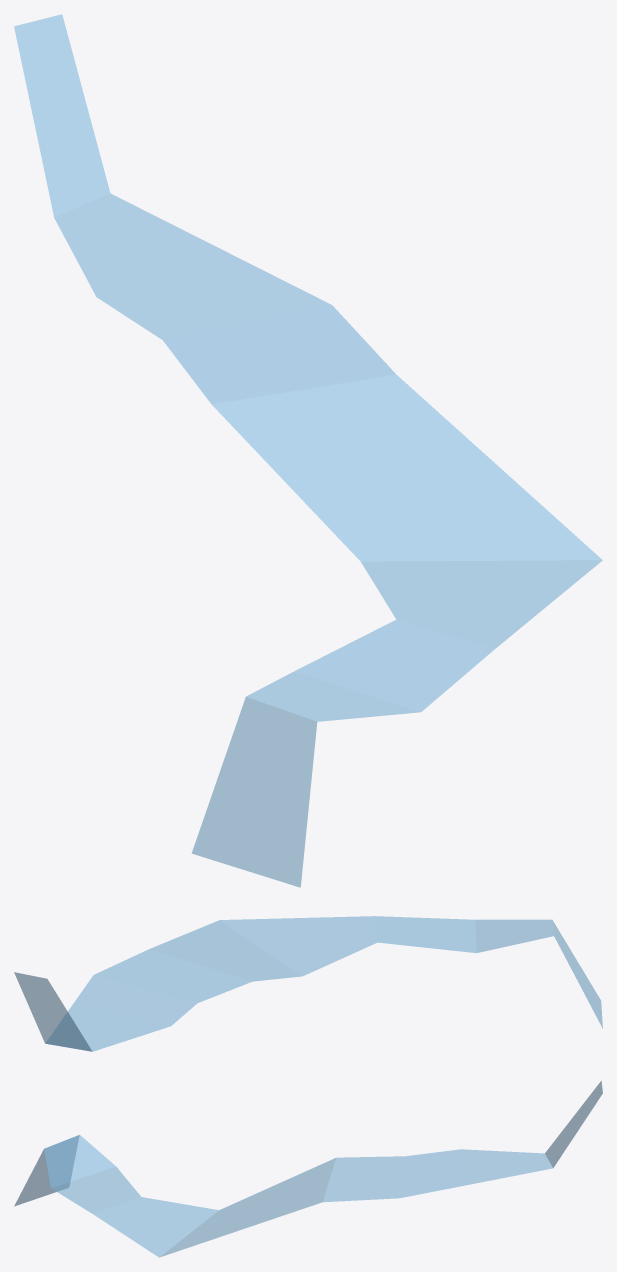
The model's file is BRUME_Blockout_D_Eau.fbx.
The picture shows the model from 3 angles, top to bottom: view 1: azimuth 30°, elevation 25°; view 2: azimuth 150°, elevation 25°; view 3: azimuth 270°, elevation 25°; orthographic projection. The views are drawn at different scales.
Visible parts, largest first — view 1: SM_Eau; view 2: SM_Eau; view 3: SM_Eau.
Part boxes in pixels (x1,y1,x2,y2): SM_Eau: [14, 14, 602, 887]; SM_Eau: [14, 916, 602, 1051]; SM_Eau: [14, 1081, 602, 1257].
Size of the model in its own units: 3169 by 2307 by 6250.
